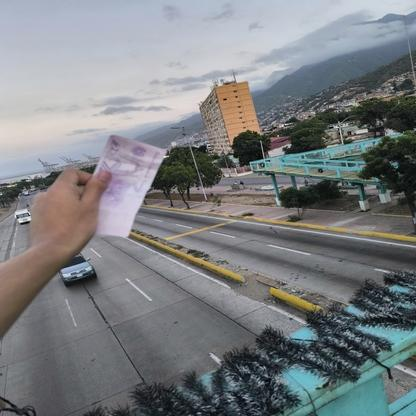one_hundred-back-vef: (89, 134, 167, 237)
